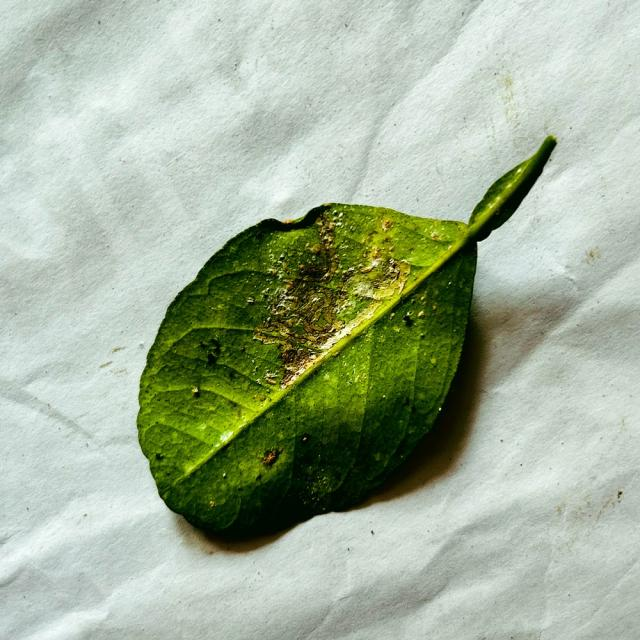Bacterial_Blight: (286, 289, 335, 334), (273, 292, 339, 322), (278, 345, 316, 382), (296, 255, 336, 286), (199, 337, 222, 364), (262, 449, 284, 469), (262, 447, 282, 466), (296, 446, 315, 466), (281, 349, 296, 365), (206, 351, 218, 366), (381, 218, 394, 231), (403, 312, 414, 326), (299, 433, 311, 445), (263, 376, 278, 385), (430, 230, 442, 241), (283, 279, 294, 291), (311, 244, 322, 255), (371, 247, 381, 259), (280, 261, 289, 273), (326, 221, 336, 231), (402, 397, 411, 408), (267, 268, 278, 276), (191, 386, 200, 395), (199, 341, 208, 349), (383, 235, 392, 243), (373, 452, 381, 461), (155, 452, 163, 460), (255, 474, 263, 482), (388, 245, 396, 253), (297, 263, 305, 271), (246, 296, 254, 304), (342, 268, 350, 276), (410, 405, 417, 414), (417, 311, 425, 318), (333, 351, 341, 358), (388, 258, 395, 266), (261, 289, 269, 296), (360, 237, 367, 244), (305, 242, 312, 249), (389, 313, 396, 320), (420, 295, 426, 302), (209, 501, 215, 508), (430, 358, 436, 365), (447, 245, 453, 251), (432, 304, 437, 311), (222, 472, 227, 478), (241, 346, 246, 352), (495, 210, 500, 216), (286, 416, 291, 421), (302, 437, 307, 441)
Lemon: (136, 136, 556, 548)
